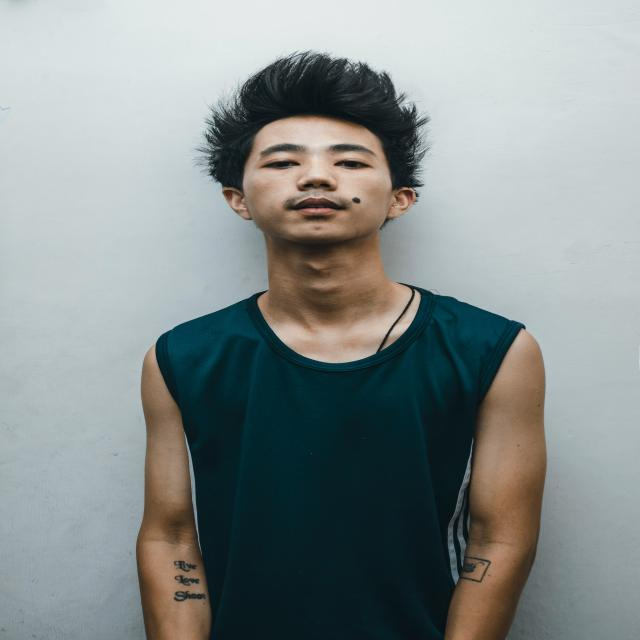human: (135, 47, 555, 640)
